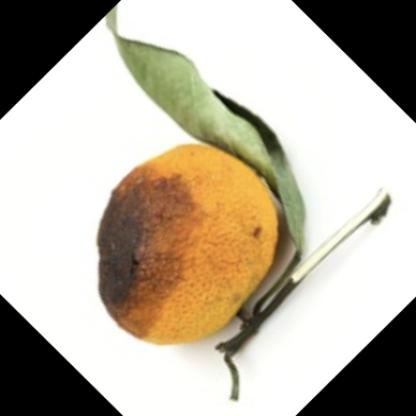rotten: (96, 104, 308, 345)
